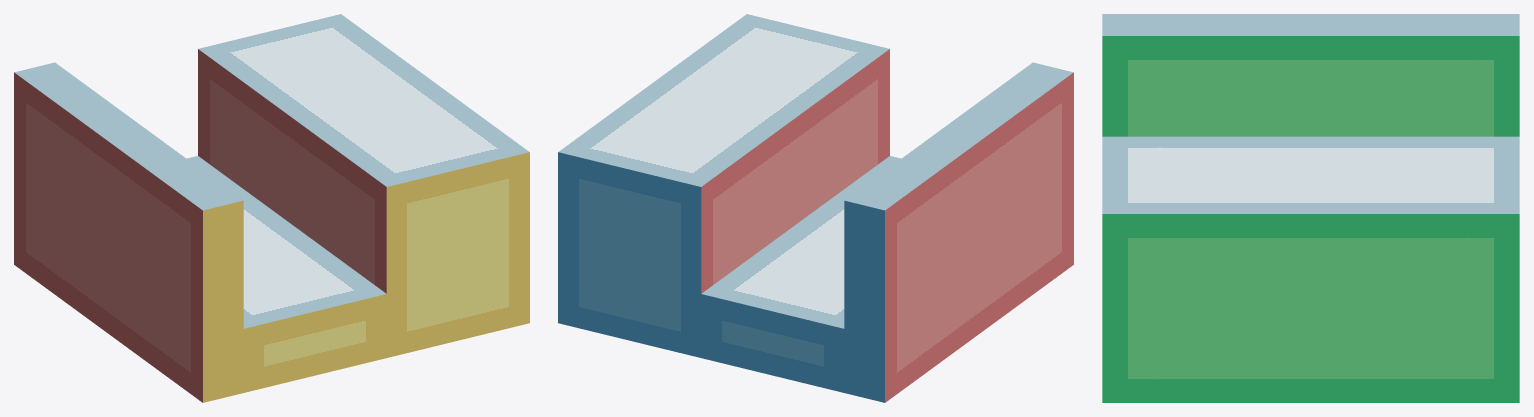
The model's file is example_obj.obj.
3 views of the same model, side by side, from view 1: azimuth 30°, elevation 25°; view 2: azimuth 150°, elevation 25°; view 3: azimuth 270°, elevation 25° (orthographic). The views are drawn at different scales.
Parts seen in each view (by area): view 1: cube; view 2: cube; view 3: cube.
Part boxes in pixels (<box>): cube: <box>14,14,529,402</box>; cube: <box>558,14,1073,402</box>; cube: <box>1102,14,1519,402</box>.
Size of the model in its own units: 1 by 0.5625 by 1.
